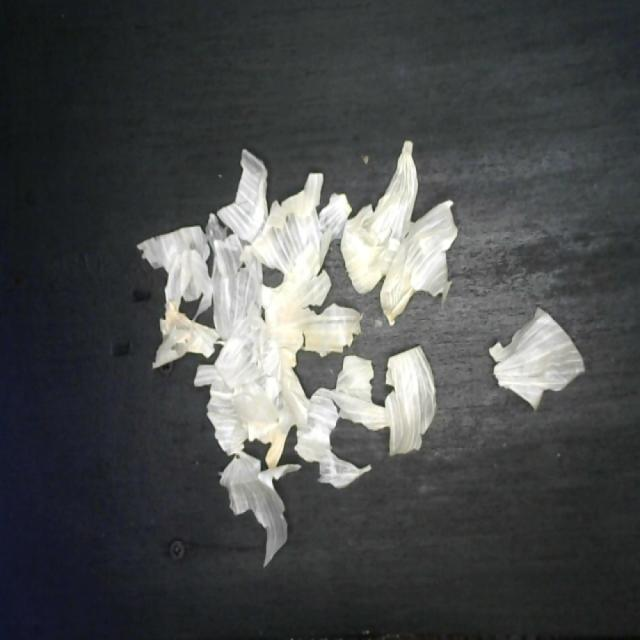biodegradable: (138, 123, 593, 553)
